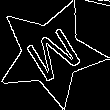M_SE: (17, 20, 84, 87)
